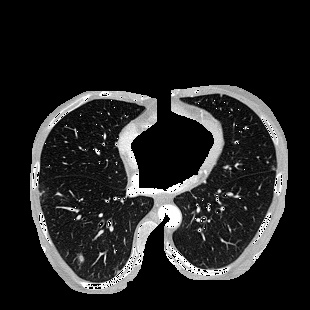PN: (77, 255, 85, 263)
